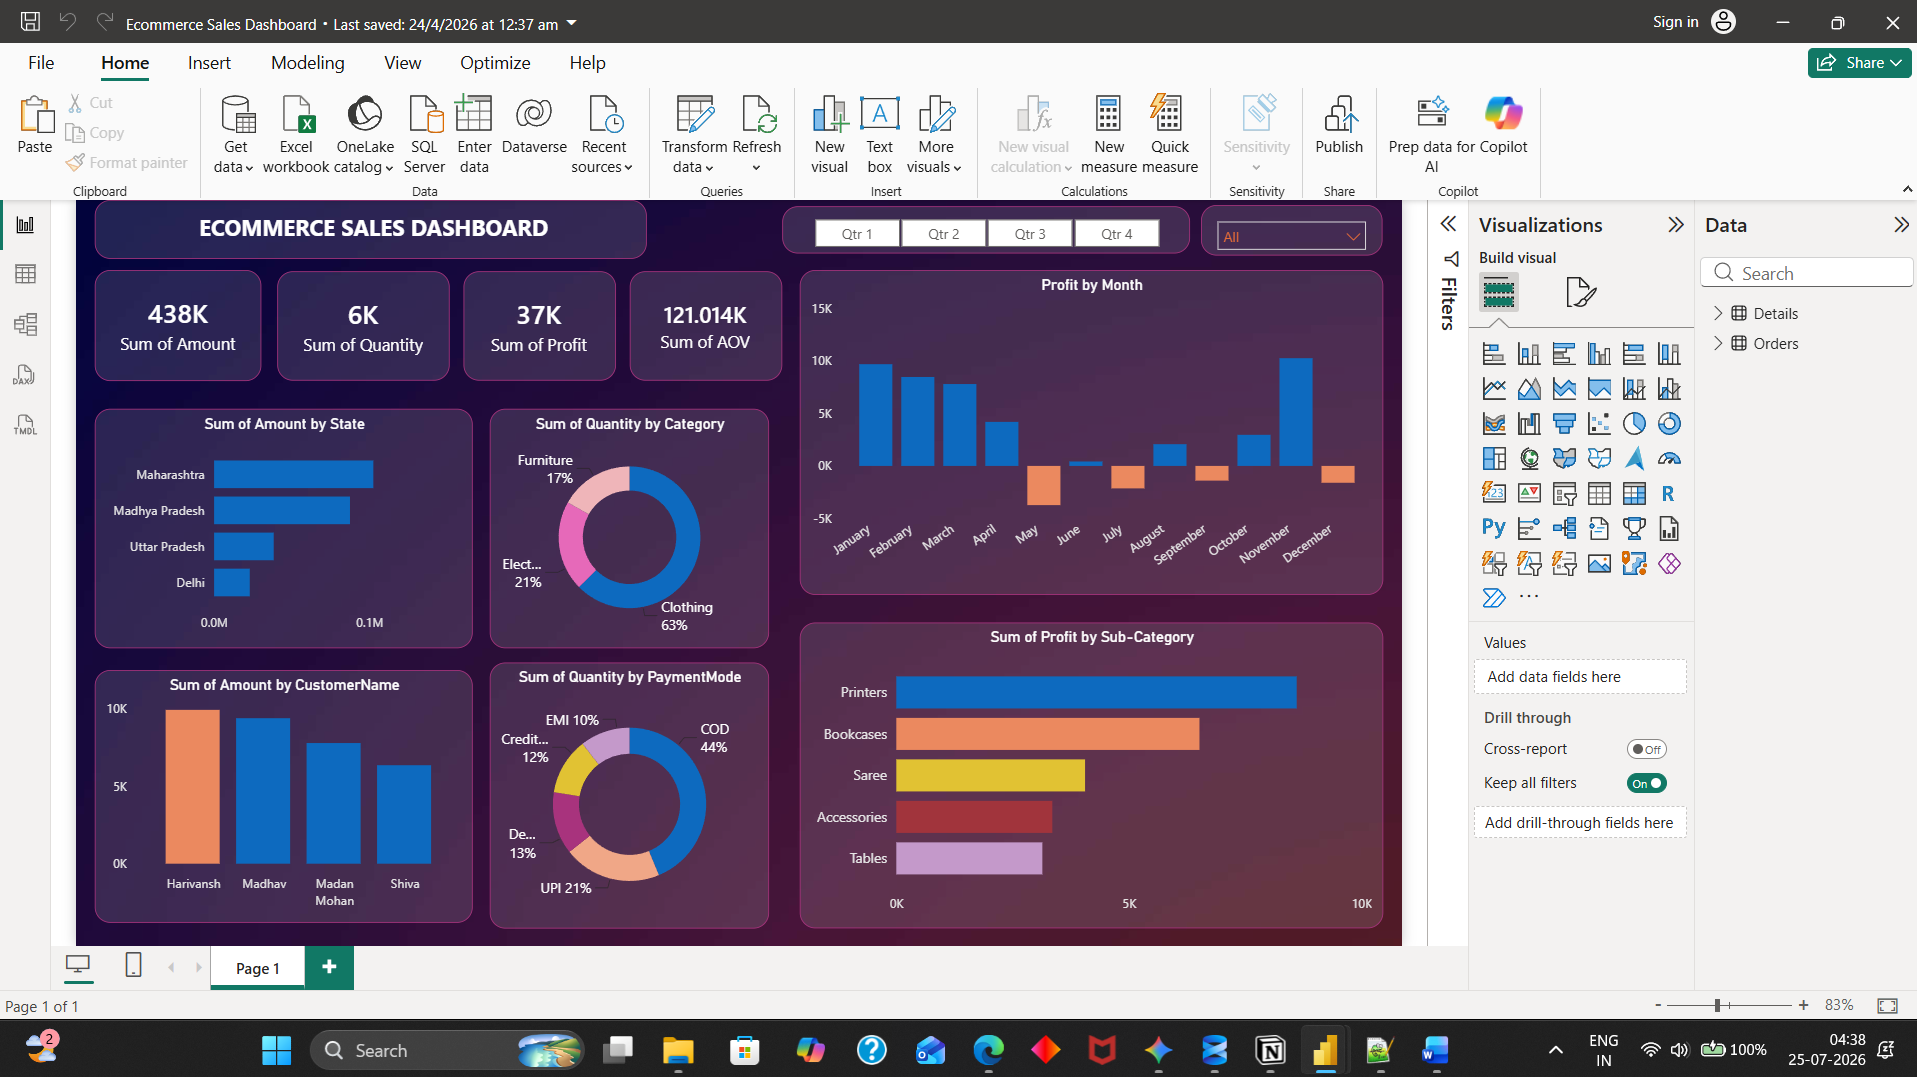

Layout of this report page (visuals, bound fields, positions):
{"tool":"powerbi","page":{"name":"Page 1","canvas":[1280,720],"ordinal":0},"visuals":[{"type":"textbox","box":[18.5,0,533.1,57],"z":0},{"type":"columnChart","title":"Profit by Month","fields":{"Category":["Orders.Order Date.Variation.Date Hierarchy.Month"],"Y":["Sum(Details.Profit)"]},"box":[698.4,67,563,313.6],"z":1000},{"type":"barChart","fields":{"Category":["Details.Sub-Category"],"Y":["Sum(Details.Profit)"]},"box":[698.4,407.7,563,295.1],"z":2000},{"type":"donutChart","fields":{"Category":["Details.Category"],"Y":["Sum(Details.Quantity)"]},"box":[399.1,201,269.4,230.9],"z":3000},{"type":"donutChart","fields":{"Y":["Sum(Details.Quantity)"],"Category":["Details.PaymentMode"]},"box":[399.1,446.1,269.4,256.6],"z":4000},{"type":"cardVisual","fields":{"Data":["Sum(Details.Amount)"]},"box":[18.5,67,161.1,106.9],"z":5000},{"type":"cardVisual","fields":{"Data":["Sum(Details.Quantity)"]},"box":[193.9,68.4,166.8,105.5],"z":6000},{"type":"cardVisual","fields":{"Data":["Sum(Details.Profit)"]},"box":[373.5,68.4,146.8,105.5],"z":7000},{"type":"cardVisual","fields":{"Data":["Sum(Details.AOV)"]},"box":[534.5,68.4,146.8,105.5],"z":8000},{"type":"barChart","fields":{"Category":["Orders.State"],"Y":["Sum(Details.Amount)"]},"box":[18.5,201,364.9,230.9],"z":9000},{"type":"columnChart","fields":{"Category":["Orders.CustomerName"],"Y":["Sum(Details.Amount)"]},"box":[18.5,453.3,364.9,243.7],"z":10000},{"type":"slicer","fields":{"Values":["Orders.Order Date.Variation.Date Hierarchy.Quarter"]},"box":[681.3,5.7,393.4,45.6],"z":11000},{"type":"slicer","fields":{"Values":["Orders.State"]},"box":[1086.1,4.3,175.3,48.5],"z":12000}]}

Visuals, with their boxes on the page's 1280x720 design canvas (x1, y1, x2, y2). These are canvas units, not pixel positions in the 1917x1077 screenshot, which may show the page scaled, cropped or inside an application window:
textbox: [18,0,552,57]
"Profit by Month" columnChart: [698,67,1261,381]
barChart - Details.Sub-Category x Sum(Details.Profit): [698,408,1261,703]
donutChart - Details.Category x Sum(Details.Quantity): [399,201,668,432]
donutChart - Sum(Details.Quantity) x Details.PaymentMode: [399,446,668,703]
cardVisual - Sum(Details.Amount): [18,67,180,174]
cardVisual - Sum(Details.Quantity): [194,68,361,174]
cardVisual - Sum(Details.Profit): [374,68,520,174]
cardVisual - Sum(Details.AOV): [534,68,681,174]
barChart - Orders.State x Sum(Details.Amount): [18,201,383,432]
columnChart - Orders.CustomerName x Sum(Details.Amount): [18,453,383,697]
slicer - Orders.Order Date.Variation.Date Hierarchy.Quarter: [681,6,1075,51]
slicer - Orders.State: [1086,4,1261,53]
